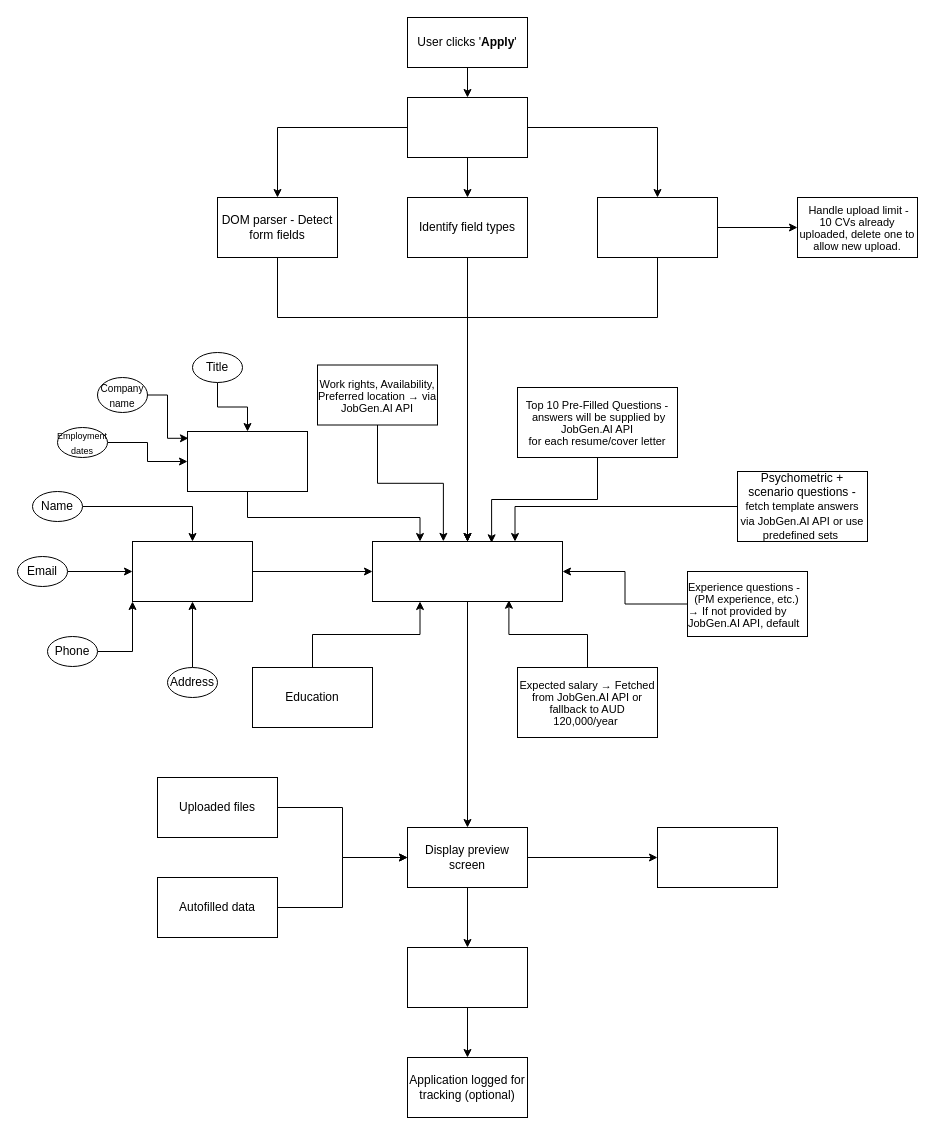
This 935x1135 diagram has some shape labels left out. The centre of each missing label's shape, as x and y in pixels:
"Allows user editing" belongs at point 717,857.
"Autofill engine" belongs at point 467,571.
"Employment history" belongs at point 247,461.
"Handle file upload - resume + cover letter. File types e.g. pdf, word?" belongs at point 657,227.
"JobGen.AI Chrome extension - Detect application forms" belongs at point 467,127.
"Personal Information" belongs at point 192,571.
"User clicks ' Apply/Submit '" belongs at point 467,977.
